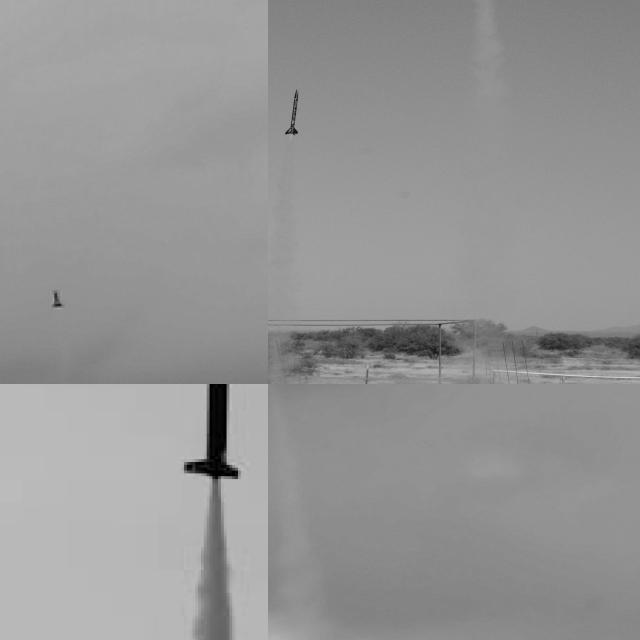Rocket: (183, 384, 245, 486), (285, 89, 299, 135), (50, 286, 64, 310)
